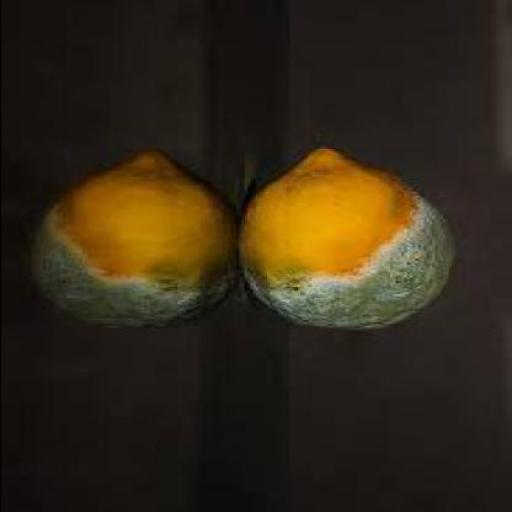biodegradable: (235, 143, 462, 330), (24, 148, 244, 327)
